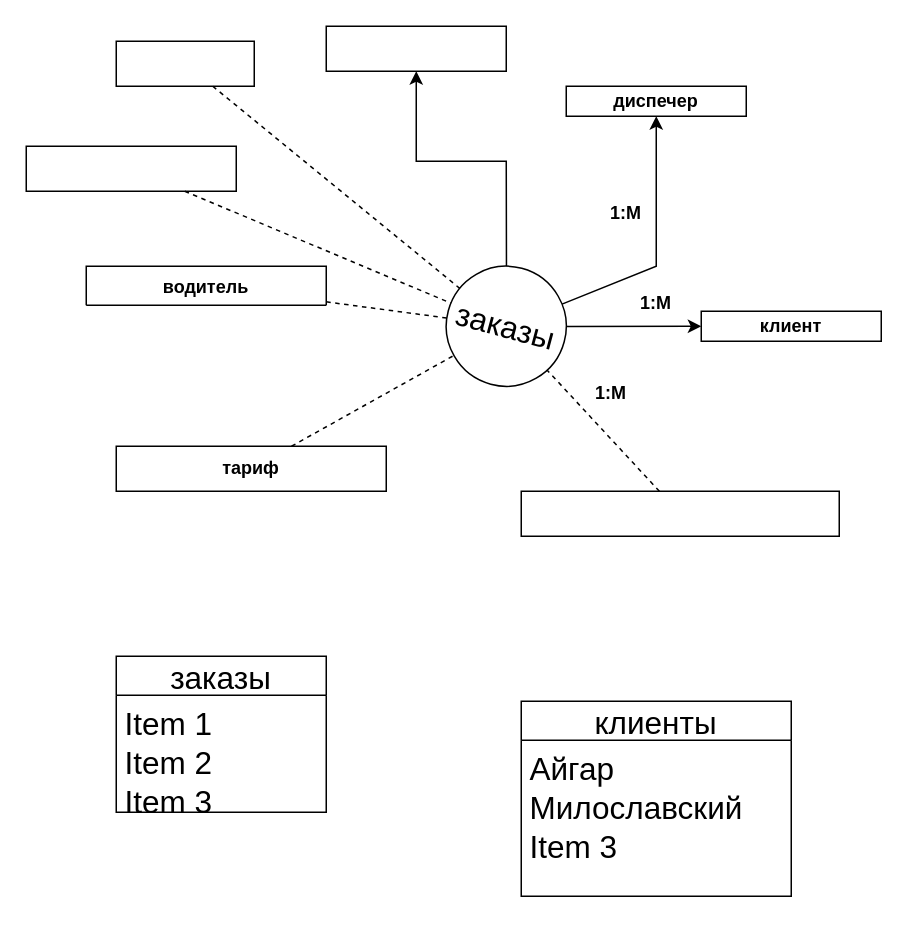
This 908x927 diagram has some shape labels left out. The centre of each missing label's shape, as x and y in pixels:
машина: the point at 130,168
отзывы: the point at 415,48
СТО: the point at 184,63
ценовые коэффициенты: the point at 679,513
